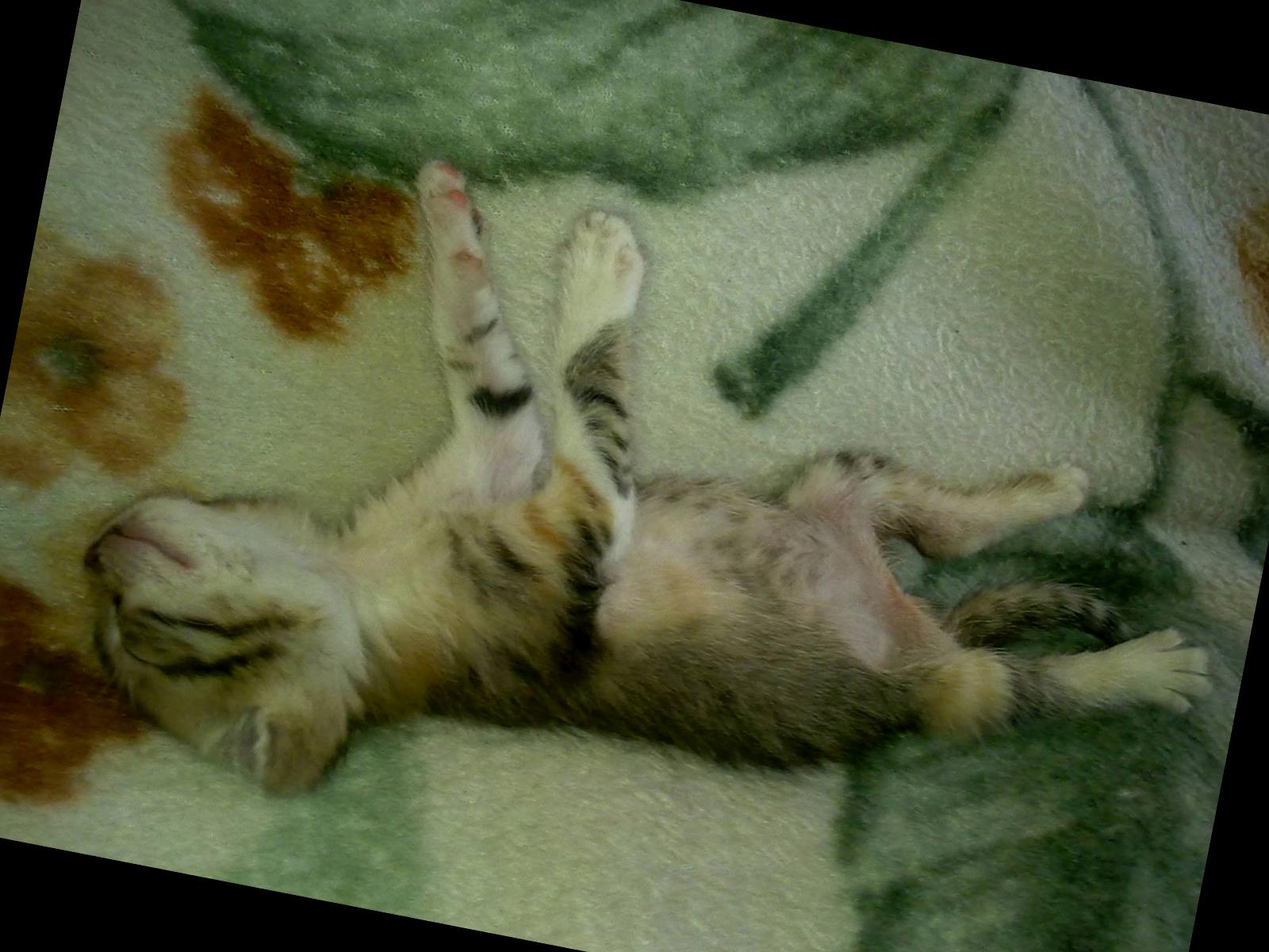macka: (44, 100, 1269, 952)
